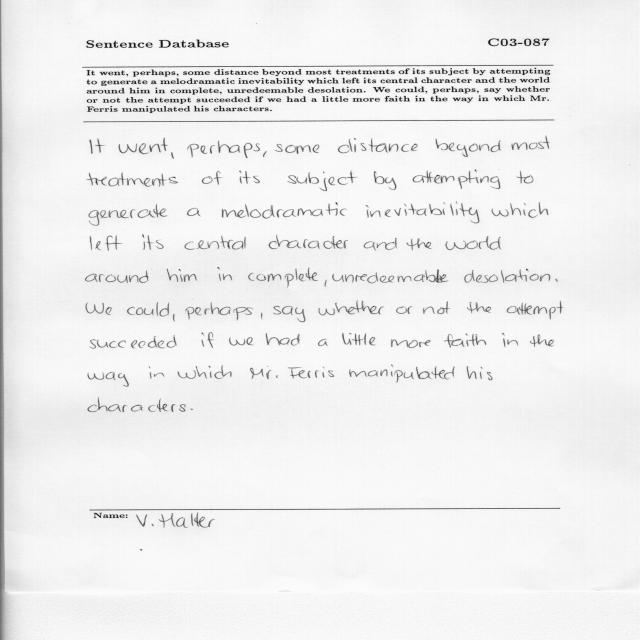word: (366, 202, 479, 223), (222, 202, 346, 219), (349, 365, 455, 383), (413, 170, 501, 189), (89, 204, 167, 225), (333, 270, 449, 284), (88, 397, 186, 412), (288, 170, 357, 191), (248, 268, 318, 288), (87, 173, 178, 187), (187, 141, 260, 158), (465, 269, 551, 283), (338, 138, 418, 153), (435, 139, 501, 157), (185, 303, 253, 320), (90, 335, 176, 348), (507, 301, 563, 320), (269, 236, 349, 249), (318, 301, 384, 315), (492, 202, 549, 218), (184, 236, 246, 250), (118, 138, 168, 154), (445, 236, 501, 250), (85, 271, 149, 283), (178, 365, 232, 379), (127, 302, 169, 317), (444, 334, 486, 348), (88, 372, 129, 386), (512, 136, 550, 150), (273, 306, 306, 322), (288, 367, 334, 378), (91, 236, 123, 251), (275, 144, 319, 154), (167, 269, 197, 283), (374, 171, 396, 190), (266, 334, 300, 346), (364, 238, 397, 250), (342, 333, 375, 345), (250, 366, 278, 379), (467, 366, 493, 380), (391, 339, 431, 348), (142, 234, 164, 250), (423, 301, 450, 314), (407, 239, 433, 251), (530, 334, 554, 347), (86, 303, 111, 315), (202, 171, 222, 185), (239, 171, 260, 184), (467, 302, 491, 313), (502, 333, 519, 347), (90, 138, 104, 154), (229, 337, 253, 346), (217, 267, 232, 281), (517, 172, 534, 184), (149, 366, 164, 379), (202, 332, 214, 348), (396, 306, 413, 314), (187, 208, 201, 216), (318, 339, 328, 346), (263, 151, 267, 157), (171, 152, 174, 159), (173, 314, 175, 322), (325, 280, 327, 287), (555, 278, 558, 282), (261, 313, 262, 319), (191, 409, 193, 410)
